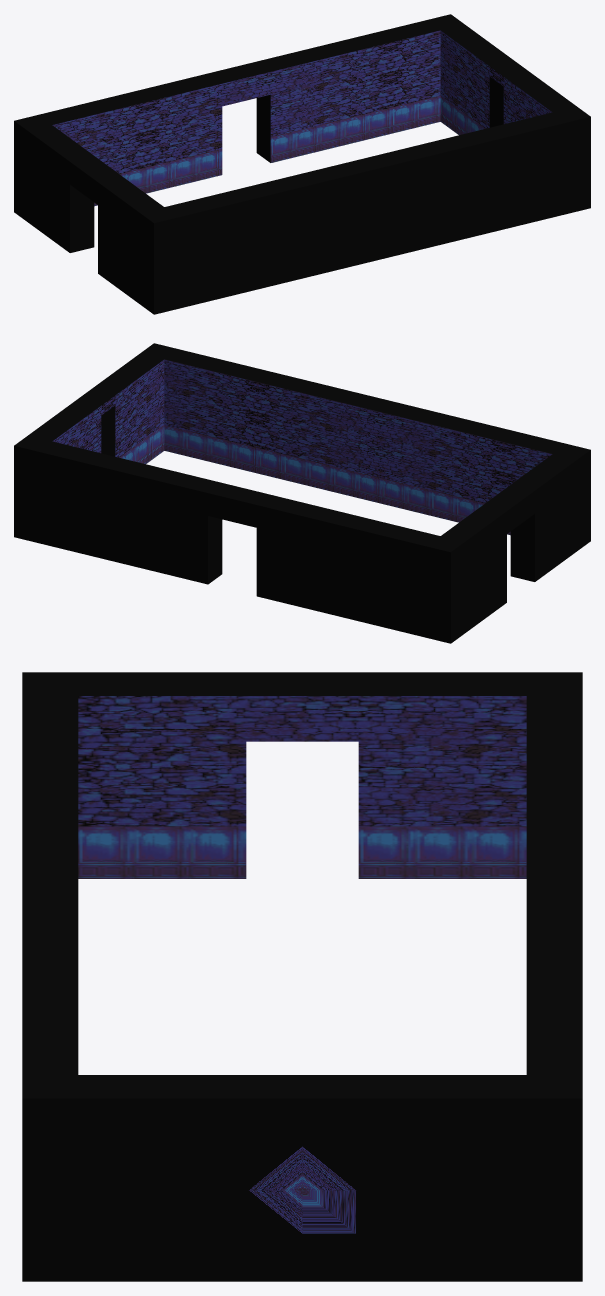
Rendered from walls_1.fbx.
The picture shows the model from 3 angles, top to bottom: view 1: azimuth 30°, elevation 25°; view 2: azimuth 150°, elevation 25°; view 3: azimuth 270°, elevation 25°; orthographic projection. The views are drawn at different scales.
Visible parts, largest first — view 1: WALL_01; view 2: WALL_01; view 3: WALL_01.
Boxes of the visible parts, x1,y1,x2,y2 form: WALL_01: [14, 14, 590, 314]; WALL_01: [14, 343, 590, 643]; WALL_01: [22, 672, 582, 1281].
Bounding box in the file's own units: 4500 × 900 × 2500.
